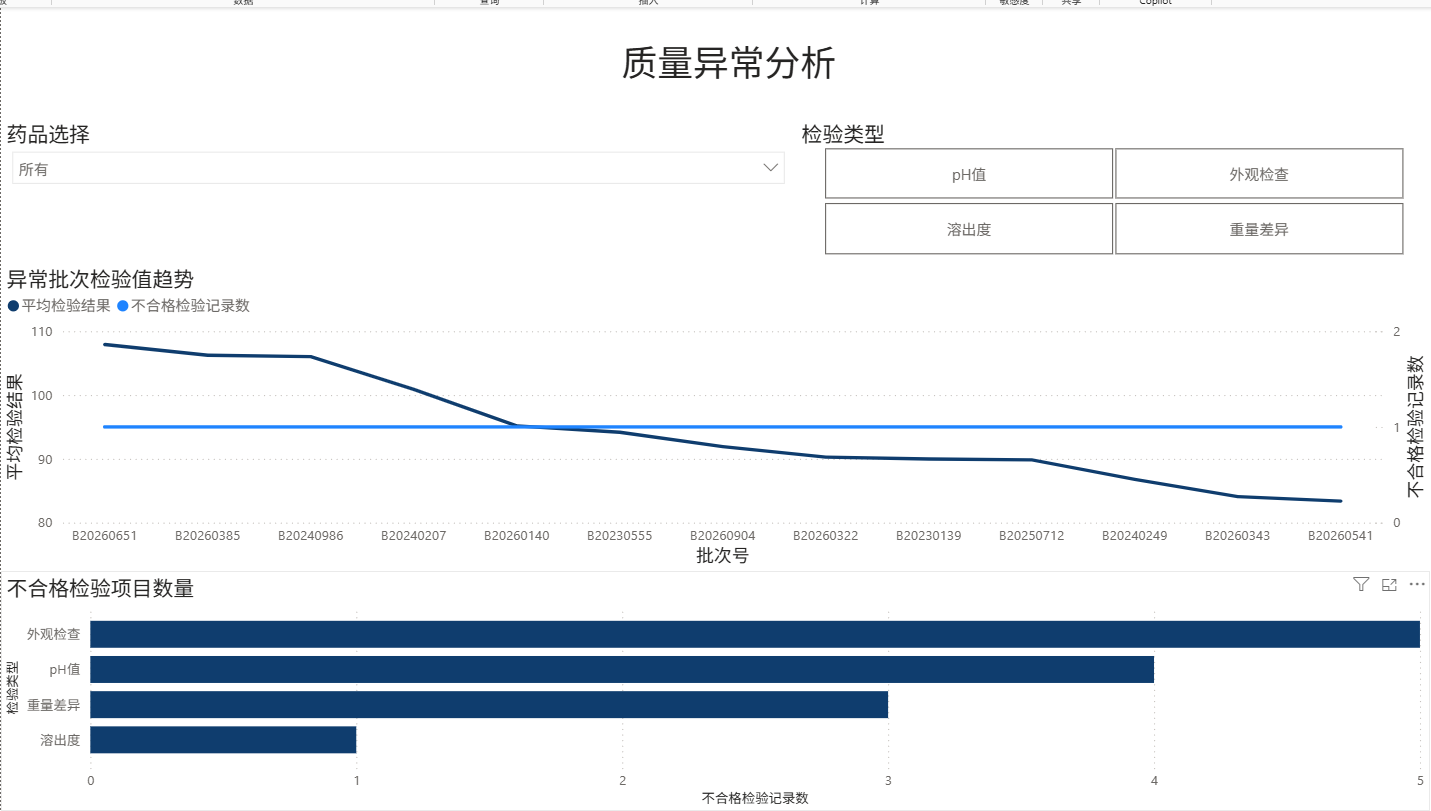

The dashboard page shown, as its layout file describes it:
{"tool":"powerbi","page":{"name":"质量合规与SPC","canvas":[1280,720],"ordinal":1},"visuals":[{"type":"lineChart","title":"异常批次检验值趋势","fields":{"Category":["pharma_db v_quality_analysis.batch_number"],"Y":["Avg(pharma_db v_quality_analysis.result_value)"],"Y2":["CountNonNull(pharma_db v_quality_analysis.inspection_result)"]},"box":[0,228.4,1279.7,276.7],"z":0},{"type":"slicer","title":"药品选择","fields":{"Values":["pharma_db drugs.drug_name"]},"box":[0,98.5,711.9,129.9],"z":1000},{"type":"slicer","title":"检验类型","fields":{"Values":["pharma_db v_quality_analysis.inspection_type"]},"box":[711.9,98.5,567.8,129.9],"z":2000},{"type":"clusteredBarChart","title":"不合格检验项目数量","fields":{"Category":["pharma_db v_quality_analysis.inspection_type"],"Y":["CountNonNull(pharma_db v_quality_analysis.inspection_id)"]},"box":[0,505.1,1279.7,214.9],"z":3000},{"type":"textbox","box":[23,19.7,1257,78.9],"z":5000}]}

Visuals, with their boxes on the page's 1280x720 design canvas (x1, y1, x2, y2). These are canvas units, not pixel positions in the 1431x811 screenshot, which may show the page scaled, cropped or inside an application window:
"异常批次检验值趋势" lineChart: locate(0, 228, 1280, 505)
"药品选择" slicer: locate(0, 98, 712, 228)
"检验类型" slicer: locate(712, 98, 1280, 228)
"不合格检验项目数量" clusteredBarChart: locate(0, 505, 1280, 720)
textbox: locate(23, 20, 1280, 99)
